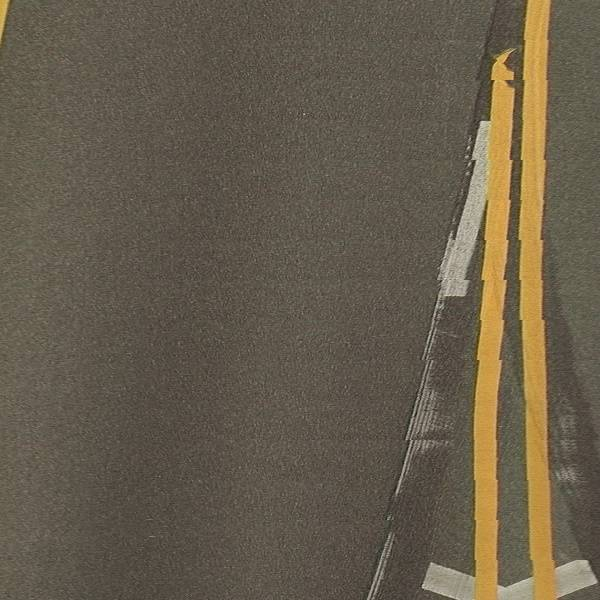road_damage: (365, 314, 449, 600)
